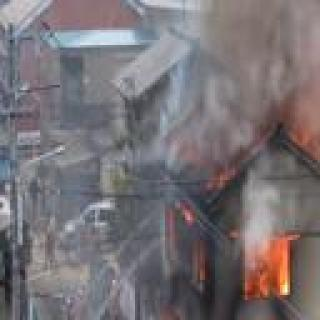fire: (156, 197, 315, 320)
